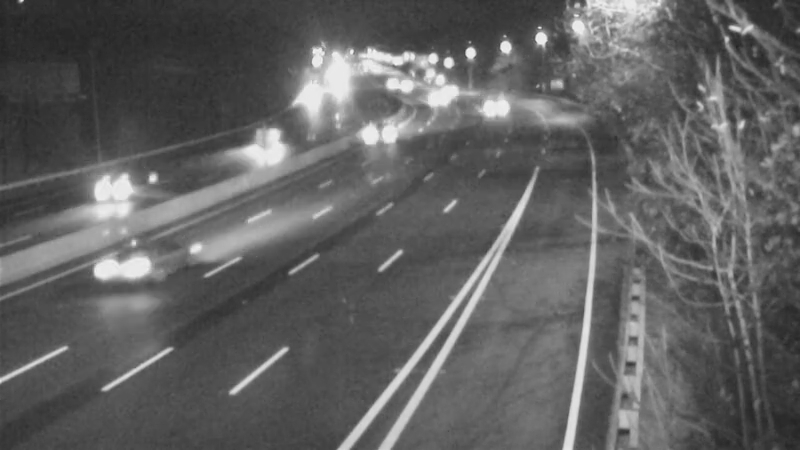vehicle: (95, 225, 175, 305), (77, 147, 157, 227), (383, 59, 433, 109), (412, 74, 462, 124), (461, 77, 511, 127), (355, 106, 405, 156), (243, 111, 293, 161)
